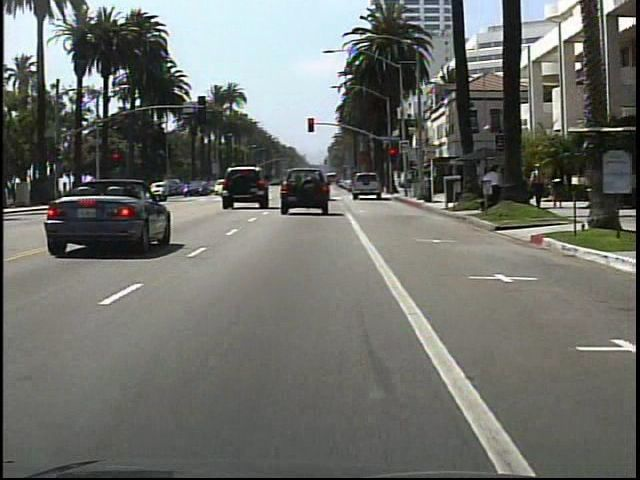person: (481, 163, 505, 210), (528, 159, 549, 211)
